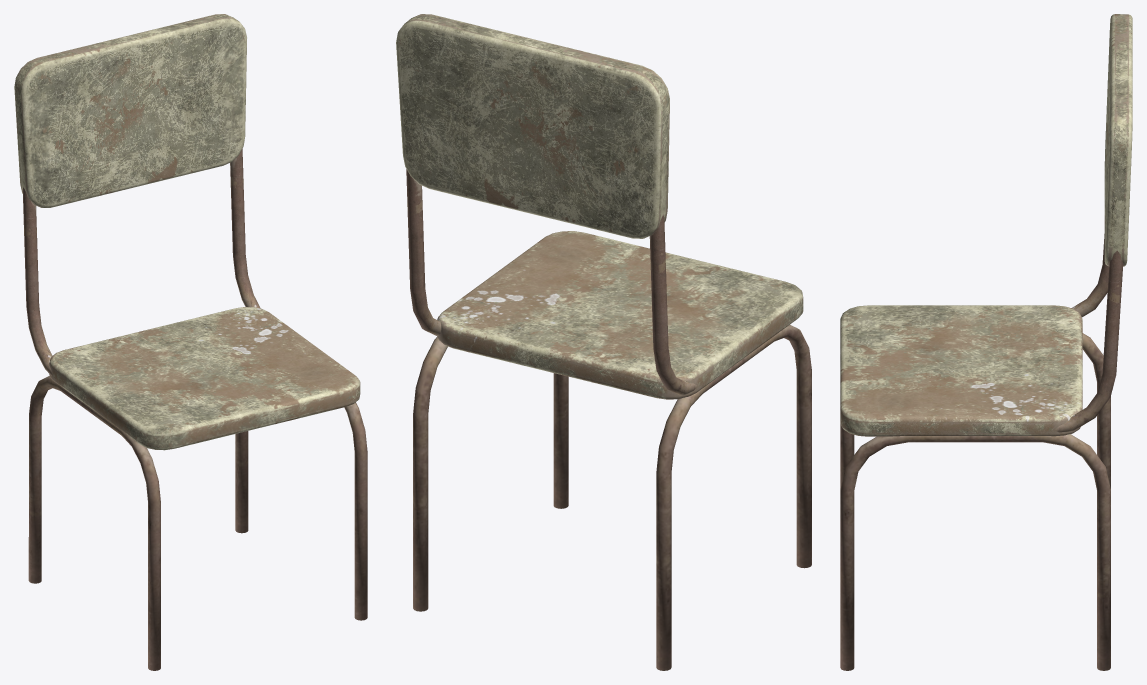
File: Chair03.obj
3 views of the same model, side by side, from view 1: azimuth 30°, elevation 25°; view 2: azimuth 150°, elevation 25°; view 3: azimuth 270°, elevation 25° (orthographic). The views are drawn at different scales.
Parts seen in each view (by area): view 1: Cube.005_Cube.002, Cube.003_Cube.001, Cube_Cube.005, Cube.004_Cube.006; view 2: Cube.005_Cube.002, Cube.003_Cube.001, Cube_Cube.005, Cube.004_Cube.006; view 3: Cube.003_Cube.001, Cube_Cube.005, Cube.005_Cube.002, Cube.004_Cube.006.
Boxes of the visible parts, x1,y1,x2,y2 form: Cube.005_Cube.002: (14,14,246,207); Cube.003_Cube.001: (49,307,360,450); Cube_Cube.005: (28,376,367,670); Cube.004_Cube.006: (22,149,260,378); Cube.005_Cube.002: (396,14,669,238); Cube.003_Cube.001: (437,231,803,399); Cube_Cube.005: (413,325,811,670); Cube.004_Cube.006: (406,169,700,395); Cube.003_Cube.001: (840,305,1082,436); Cube_Cube.005: (840,333,1110,670); Cube.005_Cube.002: (1104,14,1132,266); Cube.004_Cube.006: (1048,234,1123,432).
Size of the model in its own units: 0.6706 by 1.45 by 0.7002.
1 material, 1 textured.
